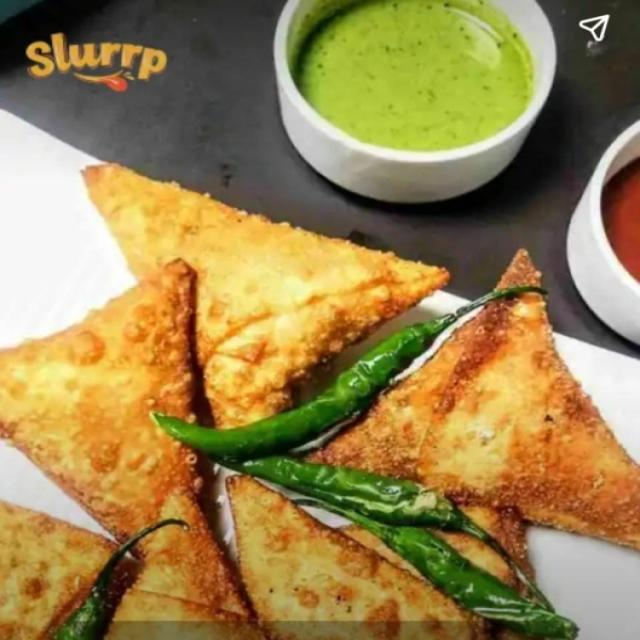Samboosa: (0, 144, 640, 640)
